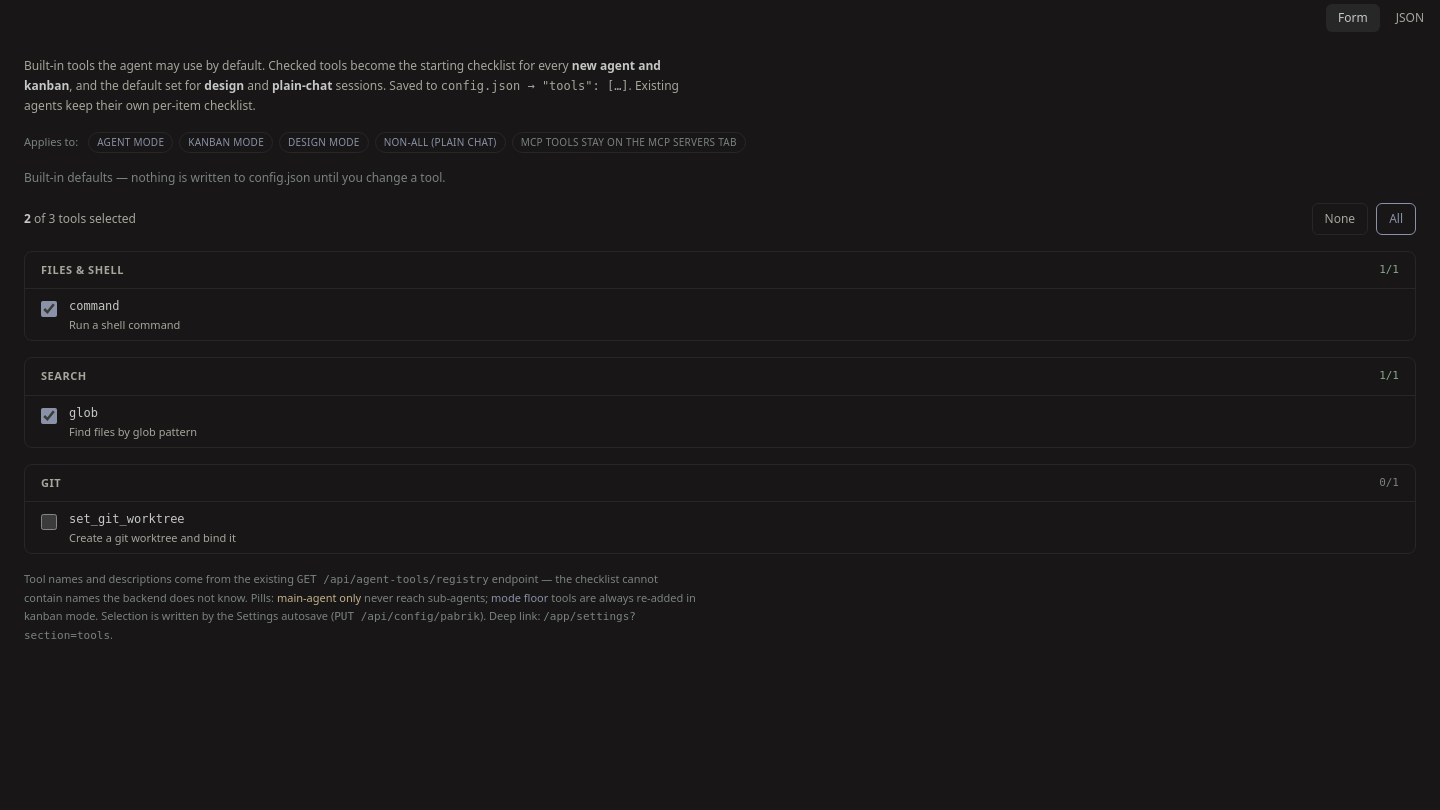
Test: PabrikConfigEditor (orchestrator) › checking a tool writes the explicit list to the server
What coordinates should you click on to do the following:
click the checkbox labelled "set_git_worktree Create a git worktree and bind it"
I would click on:
 (49, 522)
Its box is [41,514,57,530].
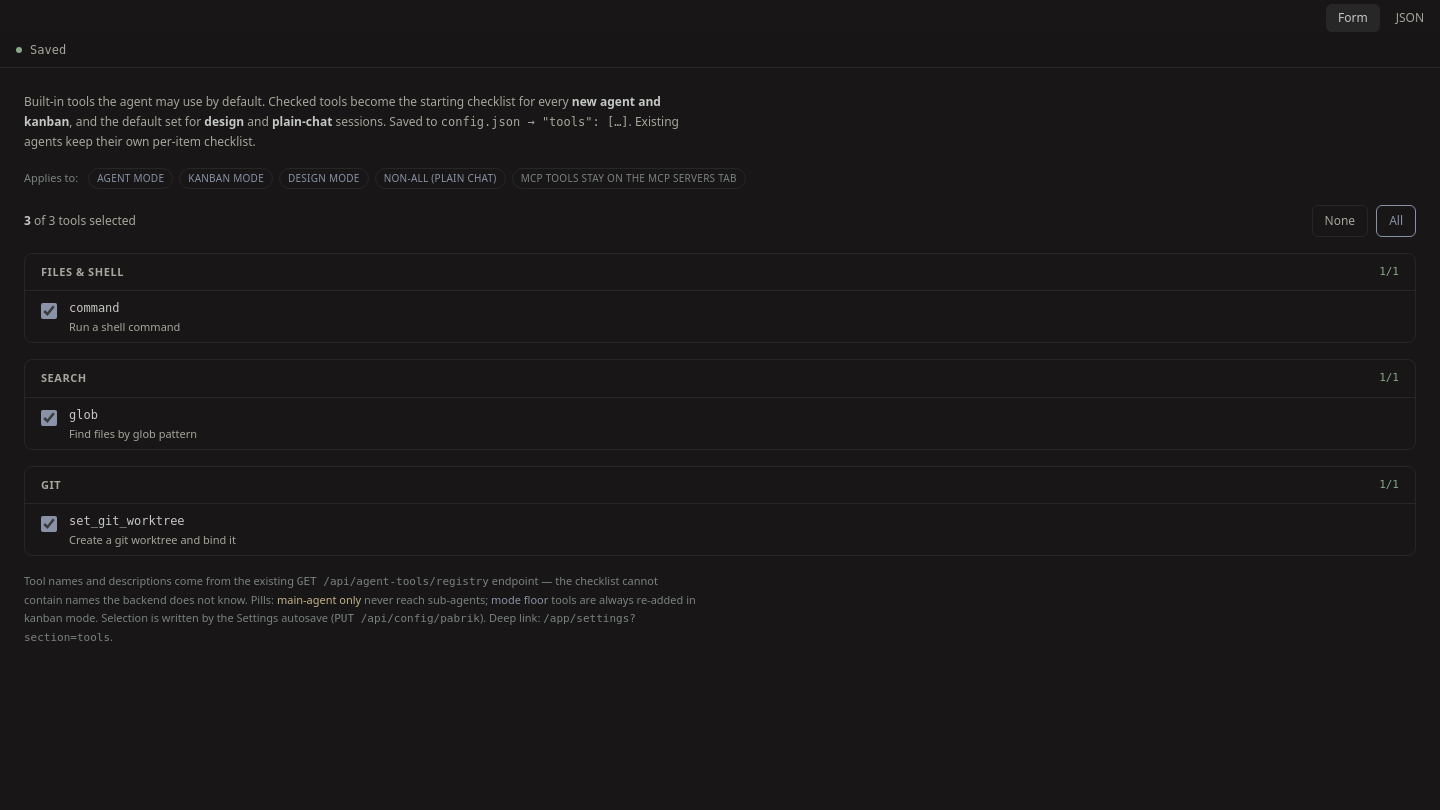
Now the message "Saved" is shown, box [0,32,1439,68]
